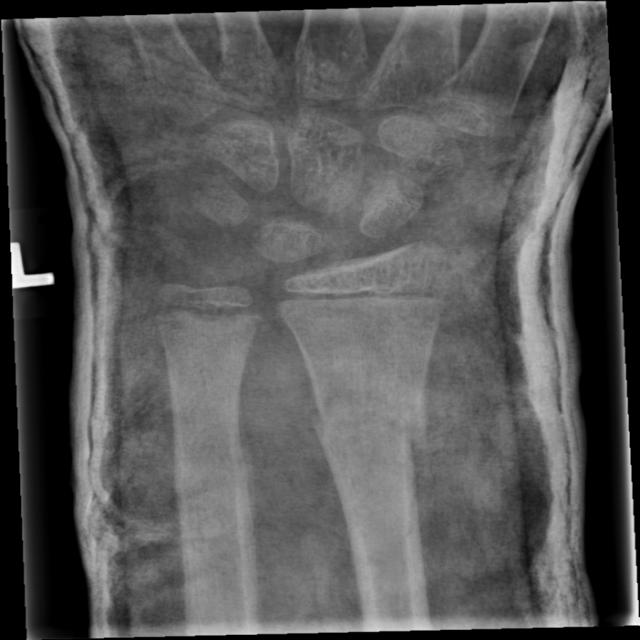radius fracture: (288, 364, 471, 495)
